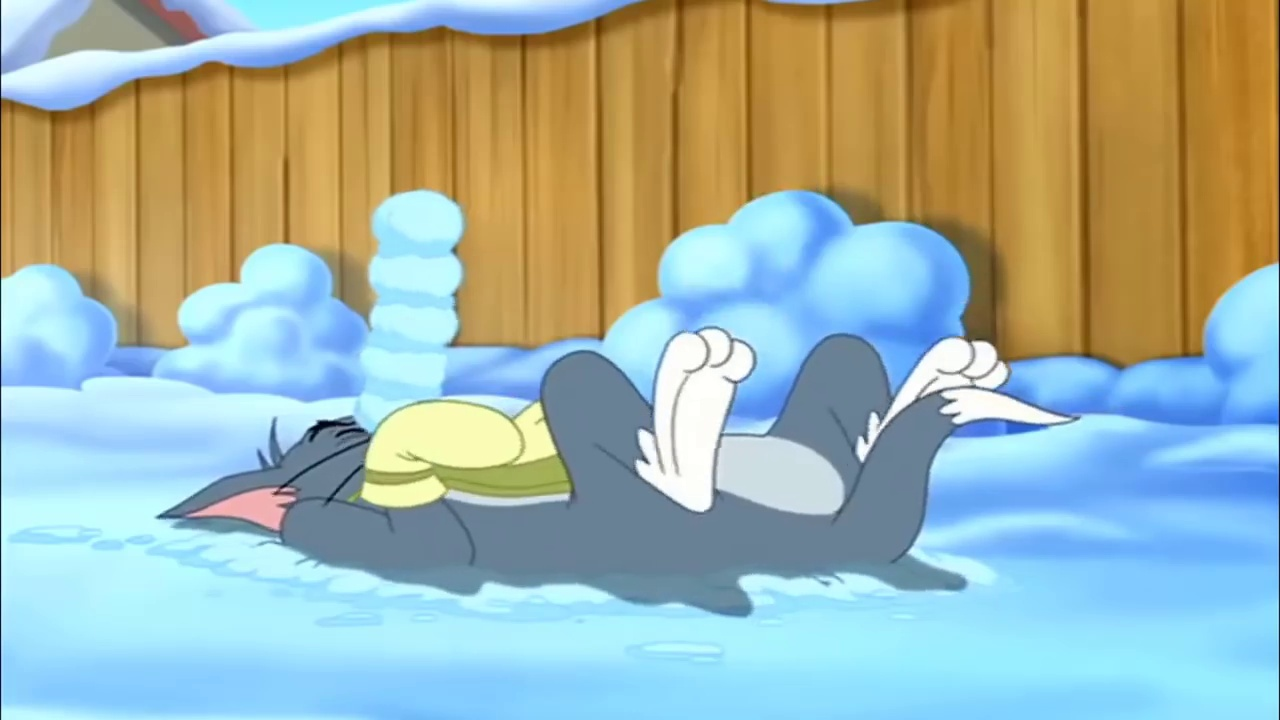face: (288, 414, 387, 496)
